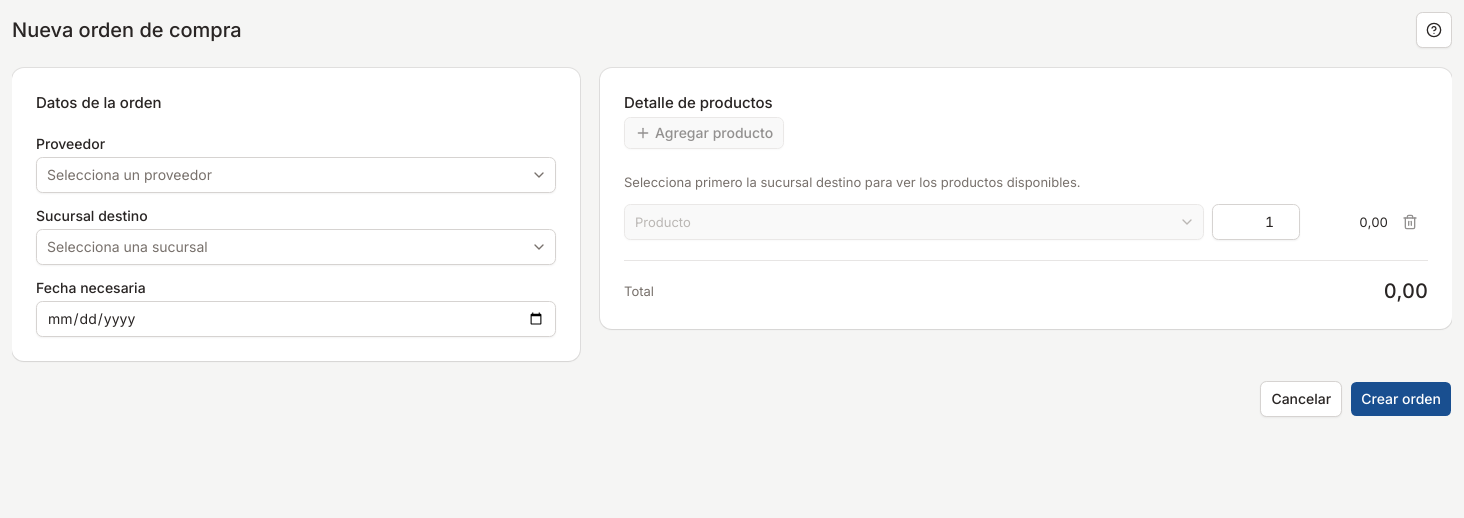
Scenario: formulario de nueva orden › el aviso del formato de la sucursal es informativo (azul), no naranja ni rojo
The image size is (1464, 518).
Step 1. Click the dropdown named "Sucursal destino" → (127, 247), box [36, 229, 556, 265]
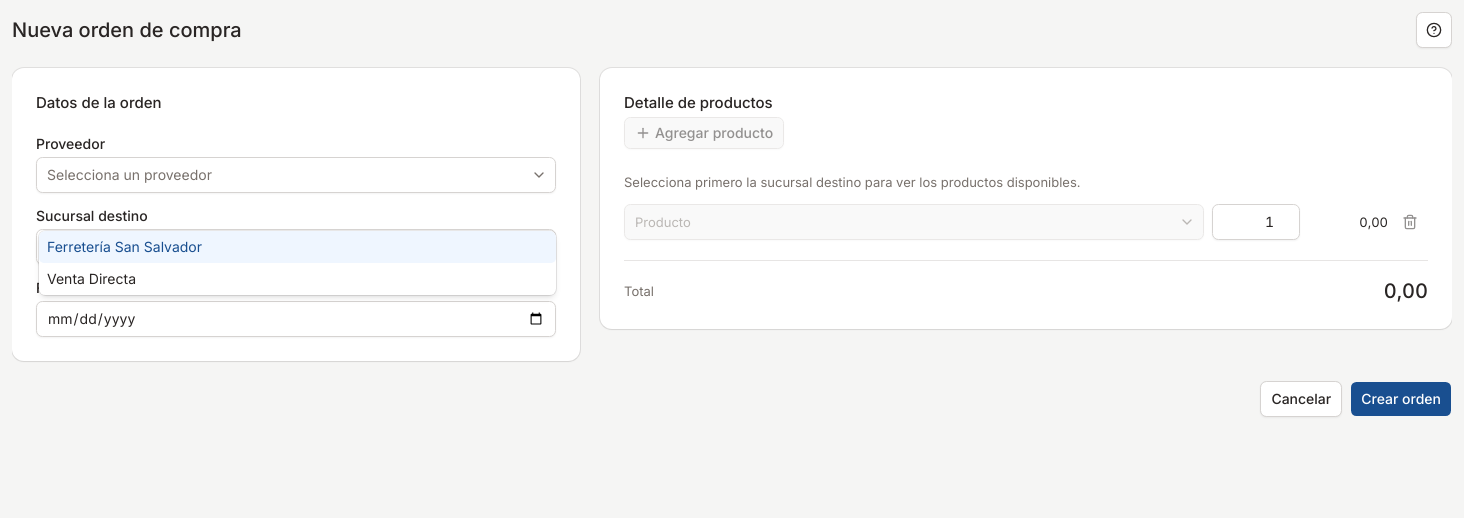
Step 2. Click the option "Ferretería San Salvador" → (125, 247), box [39, 231, 556, 263]
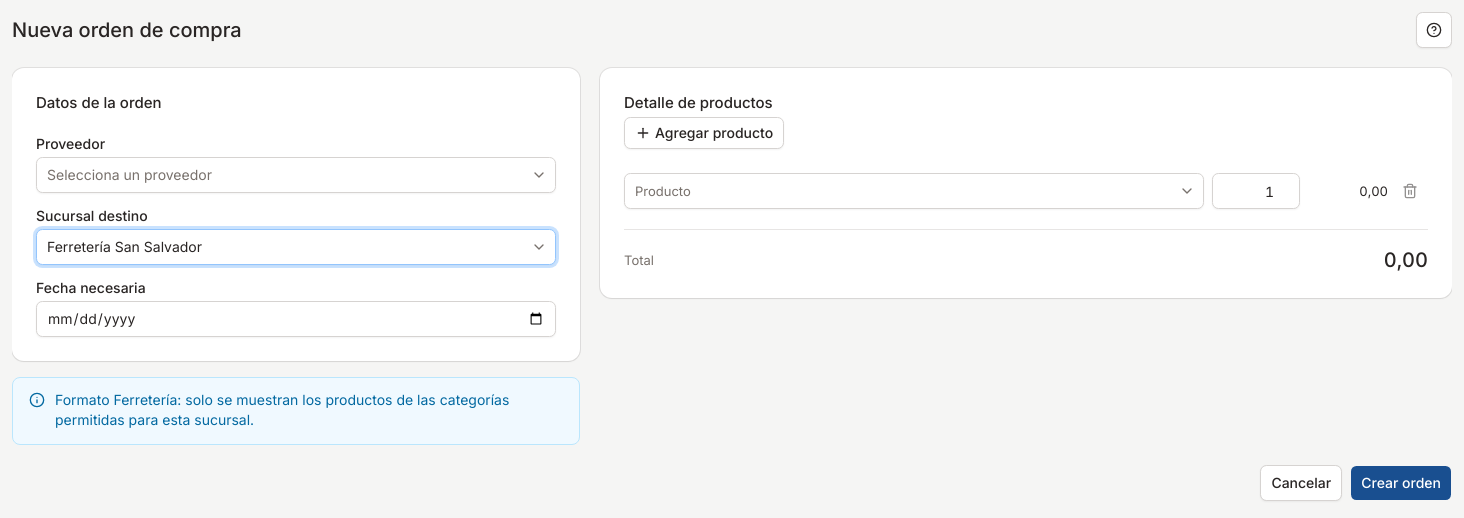
Result: the message shows "solo se muestran los productos de las categorías permitidas" at [55, 391, 509, 428]
